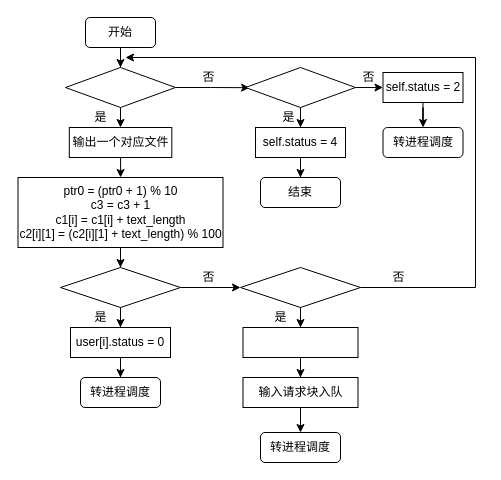
The diagram is 501 pixels wide and 480 high, and some of its shapes have lost their labels. Each missing label, with the centre of its shape:
user[i].status == 1?: (120,287)
有用户进程处 于等待状态3？: (300,287)
用户进程完？: (300,87)
用户进程状态转为0: (300,342)
输出请求块 队列不为空？: (120,87)
